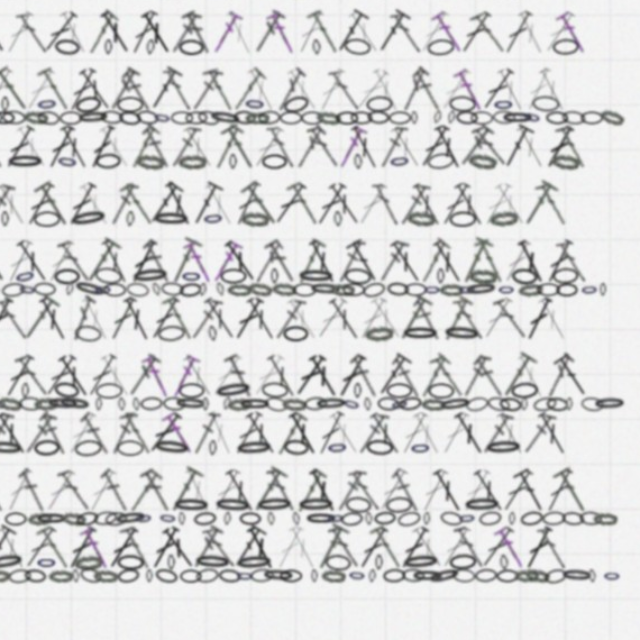chain: (340, 48, 376, 67), (118, 252, 154, 271), (247, 405, 283, 424), (44, 558, 80, 577), (173, 304, 209, 321), (192, 457, 228, 474), (414, 559, 450, 576), (121, 315, 153, 334), (437, 571, 469, 589), (451, 356, 486, 372), (44, 458, 79, 474), (266, 458, 301, 474), (247, 509, 282, 525), (266, 560, 301, 576), (488, 458, 523, 473), (284, 509, 319, 524), (321, 509, 356, 524), (469, 509, 504, 524), (229, 560, 264, 575), (308, 150, 334, 170), (242, 164, 273, 180), (447, 419, 478, 435), (62, 204, 97, 218), (192, 255, 227, 269), (321, 306, 356, 320), (414, 357, 449, 371), (210, 510, 245, 524), (12, 457, 38, 475), (470, 317, 501, 332), (108, 419, 139, 434), (158, 521, 189, 536), (473, 202, 500, 219), (492, 253, 519, 270), (123, 151, 148, 169), (177, 203, 204, 219), (547, 203, 574, 219), (381, 356, 408, 372), (122, 560, 149, 576), (363, 100, 388, 117), (437, 202, 462, 219), (141, 304, 166, 321), (104, 406, 129, 423), (590, 163, 614, 180), (437, 101, 462, 117), (12, 152, 37, 168), (363, 305, 388, 321), (123, 356, 148, 372), (197, 356, 222, 372), (123, 458, 148, 474), (125, 165, 155, 178), (419, 254, 445, 269), (332, 318, 362, 331), (98, 420, 128, 433), (212, 420, 242, 433), (337, 420, 367, 433), (585, 420, 615, 433), (290, 573, 320, 586), (556, 573, 586, 586), (105, 101, 129, 117), (512, 305, 536, 321), (346, 560, 370, 576), (69, 304, 90, 322), (400, 509, 425, 524), (127, 571, 149, 588), (531, 419, 554, 435), (410, 521, 433, 537), (308, 51, 334, 65), (215, 204, 241, 218), (271, 255, 297, 269), (30, 306, 56, 320), (474, 306, 500, 320), (50, 50, 74, 65), (549, 101, 573, 116), (383, 152, 407, 167), (457, 152, 481, 167), (531, 152, 555, 167), (503, 166, 533, 178), (290, 407, 314, 422), (512, 407, 536, 422), (269, 421, 299, 433), (309, 458, 333, 473), (383, 458, 407, 473), (364, 509, 388, 524), (88, 523, 118, 535), (328, 523, 358, 535), (457, 560, 481, 575), (423, 574, 453, 586), (232, 164, 254, 180), (379, 317, 401, 333), (292, 419, 314, 435), (471, 419, 493, 435), (490, 419, 512, 435), (124, 521, 146, 537), (448, 521, 470, 537), (194, 572, 216, 588), (541, 572, 563, 588), (142, 203, 165, 218), (549, 305, 572, 320), (277, 317, 300, 332), (54, 419, 77, 434), (87, 458, 110, 473), (524, 572, 547, 587), (494, 51, 518, 65), (161, 153, 185, 167), (87, 255, 111, 269), (457, 255, 481, 269), (253, 306, 277, 320), (142, 408, 166, 422), (438, 408, 462, 422), (161, 459, 185, 473), (161, 561, 185, 575), (140, 521, 162, 536), (13, 51, 36, 65), (198, 51, 221, 65), (216, 102, 239, 116), (338, 165, 361, 179), (290, 204, 313, 218), (105, 306, 128, 320), (518, 318, 541, 332), (309, 357, 332, 371), (216, 408, 239, 422), (401, 408, 424, 422), (259, 420, 282, 434), (81, 522, 104, 536), (111, 522, 134, 536), (43, 573, 66, 587), (107, 203, 127, 219), (178, 164, 199, 179), (412, 419, 433, 434), (483, 521, 504, 536), (520, 521, 541, 536), (161, 572, 182, 587), (231, 572, 252, 587), (557, 165, 579, 179), (58, 318, 80, 332), (533, 50, 553, 65), (89, 152, 109, 167), (274, 152, 294, 167), (403, 203, 423, 218), (237, 254, 257, 269), (90, 165, 111, 179), (162, 165, 183, 179), (22, 318, 43, 332), (36, 318, 57, 332), (169, 318, 190, 332), (216, 318, 237, 332), (22, 420, 43, 434), (501, 420, 522, 434), (543, 420, 564, 434), (574, 420, 595, 434), (150, 522, 171, 536), (229, 522, 250, 536), (360, 522, 381, 536), (557, 522, 578, 536), (64, 573, 85, 587), (78, 573, 99, 587), (251, 573, 272, 587), (361, 419, 379, 435), (78, 165, 100, 178), (299, 318, 321, 331), (87, 420, 109, 433), (515, 573, 537, 586), (459, 50, 478, 65), (348, 458, 367, 473), (59, 165, 80, 178), (146, 165, 167, 178), (200, 318, 221, 331), (401, 318, 422, 331), (35, 420, 56, 433), (540, 522, 561, 535), (280, 573, 301, 586), (522, 164, 540, 179), (126, 51, 145, 65), (163, 51, 182, 65), (496, 153, 515, 167), (218, 306, 237, 320), (422, 459, 441, 473), (89, 561, 108, 575), (275, 166, 297, 178), (259, 319, 281, 331), (351, 319, 373, 331), (448, 319, 470, 331), (308, 421, 330, 433), (432, 421, 454, 433), (585, 523, 607, 535), (100, 574, 122, 586), (140, 574, 162, 586), (343, 574, 365, 586), (23, 165, 43, 178), (39, 165, 59, 178), (265, 165, 285, 178), (287, 165, 307, 178), (384, 165, 404, 178), (463, 165, 483, 178), (496, 165, 516, 178), (87, 318, 107, 331), (74, 420, 94, 433), (182, 420, 202, 433), (202, 420, 222, 433), (328, 420, 348, 433), (393, 420, 413, 433), (390, 522, 410, 535), (573, 522, 593, 535), (398, 573, 418, 586), (415, 573, 435, 586), (460, 573, 480, 586), (480, 573, 500, 586), (318, 319, 339, 331), (535, 319, 556, 331), (404, 420, 422, 434), (50, 166, 70, 178), (110, 166, 130, 178), (209, 166, 229, 178), (222, 166, 242, 178), (306, 166, 326, 178), (325, 166, 345, 178), (356, 166, 376, 178), (369, 166, 389, 178), (403, 166, 423, 178), (476, 166, 496, 178), (543, 166, 563, 178), (574, 166, 594, 178), (149, 319, 169, 331), (362, 319, 382, 331), (417, 319, 437, 331), (552, 319, 572, 331), (61, 523, 81, 535), (270, 523, 290, 535), (217, 574, 237, 586), (306, 574, 326, 586), (499, 574, 519, 586), (193, 165, 210, 179), (73, 318, 90, 332), (47, 420, 64, 434), (198, 522, 215, 535), (177, 522, 193, 535), (348, 522, 364, 535), (465, 522, 481, 535), (367, 573, 383, 586), (141, 319, 157, 331), (434, 319, 450, 331), (465, 319, 481, 331), (500, 319, 516, 331), (574, 319, 590, 331), (267, 574, 283, 586), (594, 574, 610, 586), (242, 357, 251, 371), (442, 165, 451, 178), (192, 318, 201, 331), (249, 318, 258, 331), (28, 573, 37, 586), (391, 51, 399, 65), (187, 102, 195, 116), (335, 102, 343, 116), (372, 204, 380, 218), (169, 255, 177, 269), (354, 255, 362, 269), (502, 561, 510, 575), (455, 165, 463, 178), (115, 318, 123, 331), (255, 420, 263, 433), (150, 102, 157, 116), (58, 153, 65, 167), (261, 204, 268, 218), (58, 255, 65, 269), (298, 306, 305, 320), (446, 306, 453, 320), (76, 408, 83, 422), (372, 408, 379, 422), (243, 459, 250, 473), (206, 561, 213, 575), (391, 561, 398, 575), (317, 523, 325, 535), (234, 319, 241, 331), (162, 421, 169, 433), (175, 421, 182, 433), (381, 421, 388, 433), (29, 523, 36, 535), (256, 523, 263, 535), (295, 523, 302, 535), (382, 523, 389, 535), (121, 574, 128, 586), (385, 574, 392, 586), (581, 574, 588, 586), (423, 166, 429, 178), (591, 319, 597, 331), (142, 421, 148, 433), (237, 421, 243, 433), (521, 421, 527, 433), (561, 421, 567, 433), (48, 523, 54, 535), (216, 523, 222, 535), (434, 523, 440, 535), (510, 523, 516, 535), (187, 574, 193, 586), (334, 574, 340, 586)
double: (49, 125, 87, 168), (271, 227, 309, 270), (129, 278, 166, 322), (74, 329, 111, 373), (185, 227, 222, 270), (253, 176, 289, 220), (87, 227, 123, 271), (519, 227, 555, 271), (500, 380, 536, 424), (278, 482, 314, 526), (549, 482, 585, 526), (31, 74, 67, 117), (31, 278, 67, 321), (389, 380, 425, 423), (549, 380, 585, 423), (260, 533, 296, 576), (1, 329, 36, 373), (408, 329, 443, 373), (204, 482, 239, 526), (260, 126, 296, 168), (167, 483, 203, 525), (87, 23, 122, 66), (352, 74, 387, 117), (389, 74, 424, 117), (186, 125, 221, 168), (364, 278, 399, 321), (38, 533, 73, 576), (513, 482, 547, 526), (335, 533, 369, 577), (112, 24, 147, 66), (475, 75, 510, 117), (501, 176, 534, 220), (224, 227, 257, 271), (205, 278, 238, 322), (464, 278, 497, 322), (149, 24, 184, 65), (519, 24, 554, 65), (93, 75, 128, 116), (1, 126, 36, 167), (463, 177, 498, 218), (186, 432, 221, 473), (482, 534, 517, 575), (162, 228, 196, 270), (347, 330, 381, 372), (106, 381, 140, 423), (439, 381, 473, 423), (298, 432, 332, 474), (2, 23, 35, 66), (427, 278, 460, 321), (371, 127, 406, 167), (372, 24, 406, 65), (409, 24, 443, 65), (538, 75, 572, 116), (125, 126, 159, 167), (483, 126, 517, 167), (298, 228, 332, 269), (347, 228, 381, 269), (69, 279, 103, 320), (254, 279, 288, 320), (236, 330, 270, 371), (335, 330, 369, 371), (384, 330, 418, 371), (279, 381, 313, 422), (316, 381, 350, 422), (421, 534, 455, 575), (131, 75, 164, 117), (180, 75, 213, 117), (464, 75, 497, 117), (76, 126, 109, 168), (310, 126, 343, 168), (446, 126, 479, 168), (143, 177, 176, 219), (217, 177, 250, 219), (279, 177, 312, 219), (402, 177, 435, 219), (14, 228, 47, 270), (51, 228, 84, 270), (125, 228, 158, 270), (335, 228, 368, 270), (372, 228, 405, 270), (495, 228, 528, 270), (402, 279, 435, 321), (310, 330, 343, 372), (168, 381, 201, 423), (217, 381, 250, 423), (427, 381, 460, 423), (51, 432, 84, 474), (273, 432, 306, 474), (347, 432, 380, 474), (384, 432, 417, 474), (94, 483, 127, 525), (316, 483, 349, 525), (476, 483, 509, 525), (501, 483, 534, 525), (88, 534, 121, 576), (150, 534, 183, 576), (329, 74, 361, 117), (89, 125, 121, 168), (169, 176, 201, 219), (243, 176, 275, 219), (311, 227, 343, 270), (533, 227, 565, 270), (447, 329, 479, 372), (163, 431, 195, 474), (385, 533, 417, 576), (199, 535, 233, 575), (125, 24, 158, 65), (365, 75, 398, 116), (69, 177, 102, 218), (94, 381, 127, 422), (76, 534, 109, 575), (52, 24, 84, 66), (225, 24, 257, 66), (336, 24, 368, 66), (348, 24, 380, 66), (280, 75, 312, 117), (502, 75, 534, 117), (151, 126, 183, 168), (58, 177, 90, 219), (539, 177, 571, 219), (459, 228, 491, 270), (484, 228, 516, 270), (292, 279, 324, 321), (440, 279, 472, 321), (262, 330, 294, 372), (373, 330, 405, 372), (533, 330, 565, 372), (58, 381, 90, 423), (292, 381, 324, 423), (329, 381, 361, 423), (354, 381, 386, 423), (114, 432, 146, 474), (262, 432, 294, 474), (311, 432, 343, 474), (459, 432, 491, 474), (533, 432, 565, 474), (181, 483, 213, 525), (255, 483, 287, 525), (440, 483, 472, 525), (465, 483, 497, 525), (188, 534, 220, 576), (225, 534, 257, 576), (373, 534, 405, 576), (21, 74, 52, 117), (237, 125, 268, 168), (551, 176, 582, 219), (317, 278, 348, 321), (200, 329, 231, 372), (163, 533, 194, 576), (77, 24, 109, 65), (299, 24, 331, 65), (385, 24, 417, 65), (533, 24, 565, 65), (144, 75, 176, 116), (440, 75, 472, 116), (21, 177, 53, 218), (428, 177, 460, 218), (484, 330, 516, 371), (21, 381, 53, 422), (144, 381, 176, 422), (243, 381, 275, 422), (200, 432, 232, 473), (391, 483, 423, 524), (447, 534, 479, 575), (15, 24, 46, 66), (40, 24, 71, 66), (188, 24, 219, 66), (200, 24, 231, 66), (262, 24, 293, 66), (107, 75, 138, 117), (218, 75, 249, 117), (243, 75, 274, 117), (551, 75, 582, 117), (274, 126, 305, 168), (33, 177, 64, 219), (514, 177, 545, 219), (3, 228, 34, 270), (77, 228, 108, 270), (114, 228, 145, 270), (237, 228, 268, 270), (422, 228, 453, 270), (447, 228, 478, 270), (243, 279, 274, 321), (329, 279, 360, 321), (502, 279, 533, 321), (15, 330, 46, 372), (40, 330, 71, 372), (89, 330, 120, 372), (151, 330, 182, 372), (274, 330, 305, 372), (3, 432, 34, 474), (15, 432, 46, 474), (410, 432, 441, 474), (422, 432, 453, 474), (447, 432, 478, 474), (496, 432, 527, 474), (132, 483, 163, 525), (329, 483, 360, 525), (428, 483, 459, 525), (3, 534, 34, 576), (52, 534, 83, 576), (114, 534, 145, 576), (274, 534, 305, 576), (311, 534, 342, 576), (410, 534, 441, 576), (496, 534, 527, 576), (521, 534, 552, 576), (164, 23, 194, 66), (497, 23, 527, 66), (318, 74, 348, 117), (201, 227, 231, 270), (478, 278, 508, 321), (59, 482, 89, 525), (311, 25, 343, 65), (521, 433, 553, 473), (274, 24, 305, 65), (428, 75, 459, 116), (40, 126, 71, 167), (188, 330, 219, 371), (132, 381, 163, 422), (460, 24, 490, 66), (485, 24, 515, 66), (59, 75, 89, 117), (170, 75, 200, 117), (293, 75, 323, 117), (515, 75, 545, 117), (115, 126, 145, 168), (337, 126, 367, 168), (386, 126, 416, 168), (460, 126, 490, 168), (497, 126, 527, 168), (534, 126, 564, 168), (96, 177, 126, 219), (108, 177, 138, 219), (355, 177, 385, 219), (367, 177, 397, 219), (441, 177, 471, 219), (59, 279, 89, 321), (96, 279, 126, 321), (170, 279, 200, 321), (219, 279, 249, 321), (515, 279, 545, 321), (540, 279, 570, 321), (127, 330, 157, 372), (164, 330, 194, 372), (256, 381, 286, 423), (515, 381, 545, 423), (22, 483, 52, 525), (34, 483, 64, 525), (244, 483, 274, 525), (540, 483, 570, 525), (127, 534, 157, 576), (300, 534, 330, 576), (477, 178, 509, 217), (522, 125, 551, 168), (263, 227, 292, 270), (219, 482, 248, 525), (317, 178, 348, 218), (225, 331, 256, 371), (496, 331, 527, 371), (70, 382, 101, 422), (477, 382, 508, 422), (77, 433, 108, 473), (484, 433, 515, 473), (207, 177, 237, 218), (392, 279, 422, 320), (256, 75, 285, 117), (16, 126, 45, 168), (145, 279, 174, 321), (522, 330, 551, 372), (182, 381, 211, 423), (207, 381, 236, 423), (337, 432, 366, 474), (237, 535, 268, 574), (239, 431, 267, 474), (423, 25, 453, 65), (448, 25, 478, 65), (71, 76, 101, 116), (207, 76, 237, 116), (404, 76, 434, 116), (164, 127, 194, 167), (226, 127, 256, 167), (300, 127, 330, 167), (349, 127, 379, 167), (330, 178, 360, 218), (41, 229, 71, 269), (411, 229, 441, 269), (22, 280, 52, 320), (108, 280, 138, 320), (281, 280, 311, 320), (53, 331, 83, 371), (300, 331, 330, 371), (404, 382, 434, 422), (127, 433, 157, 473), (374, 433, 404, 473), (108, 484, 138, 524), (16, 535, 46, 575), (411, 126, 440, 167), (423, 126, 452, 167), (182, 177, 211, 218), (423, 330, 452, 371), (367, 381, 396, 422), (540, 381, 569, 422), (41, 432, 70, 473), (90, 432, 119, 473), (145, 483, 174, 524), (355, 483, 384, 524), (404, 483, 433, 524), (349, 534, 378, 575), (134, 177, 162, 219), (367, 484, 397, 523), (35, 380, 62, 423), (552, 280, 581, 320), (460, 331, 489, 371), (239, 24, 267, 65), (393, 177, 421, 218), (153, 228, 181, 269), (183, 279, 211, 320), (467, 381, 495, 422), (72, 483, 100, 524), (461, 534, 489, 575), (535, 535, 563, 575), (202, 126, 229, 167), (294, 177, 321, 218), (356, 279, 383, 320), (227, 432, 254, 473), (294, 483, 321, 524), (388, 228, 414, 269), (117, 330, 143, 371), (154, 432, 180, 473)
